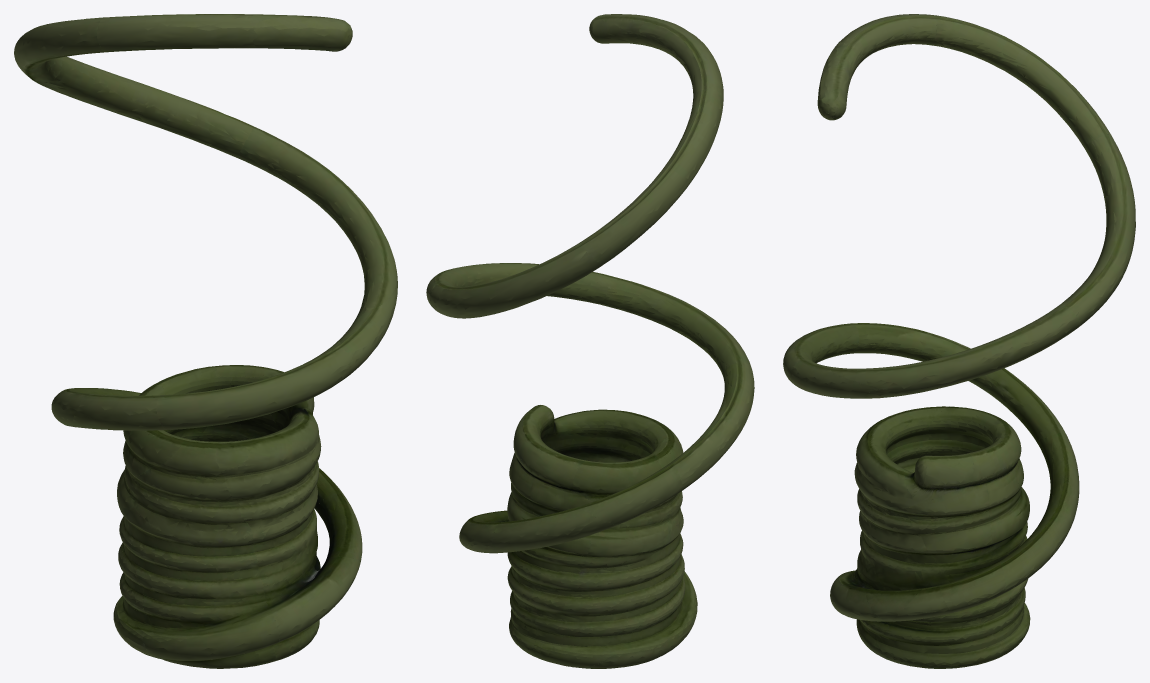
Rendered from 03_6_gj_pen_holder1.glb.
3 views of the same model, side by side, from view 1: azimuth 30°, elevation 25°; view 2: azimuth 150°, elevation 25°; view 3: azimuth 270°, elevation 25° (orthographic). The views are drawn at different scales.
Parts seen in each view (by area): view 1: tripo_node_c66e9d44-3401-48d4-bc1d-c42708ec62ac.002; view 2: tripo_node_c66e9d44-3401-48d4-bc1d-c42708ec62ac.002; view 3: tripo_node_c66e9d44-3401-48d4-bc1d-c42708ec62ac.002.
Boxes of the visible parts, x1=… form: tripo_node_c66e9d44-3401-48d4-bc1d-c42708ec62ac.002: x1=14, y1=14, x2=397, y2=668; tripo_node_c66e9d44-3401-48d4-bc1d-c42708ec62ac.002: x1=426, y1=14, x2=754, y2=668; tripo_node_c66e9d44-3401-48d4-bc1d-c42708ec62ac.002: x1=783, y1=14, x2=1135, y2=668.
Bounding box in the file's own units: 0.1365 × 0.2803 × 0.1542.
Materials: 1 (1 with a texture image).
